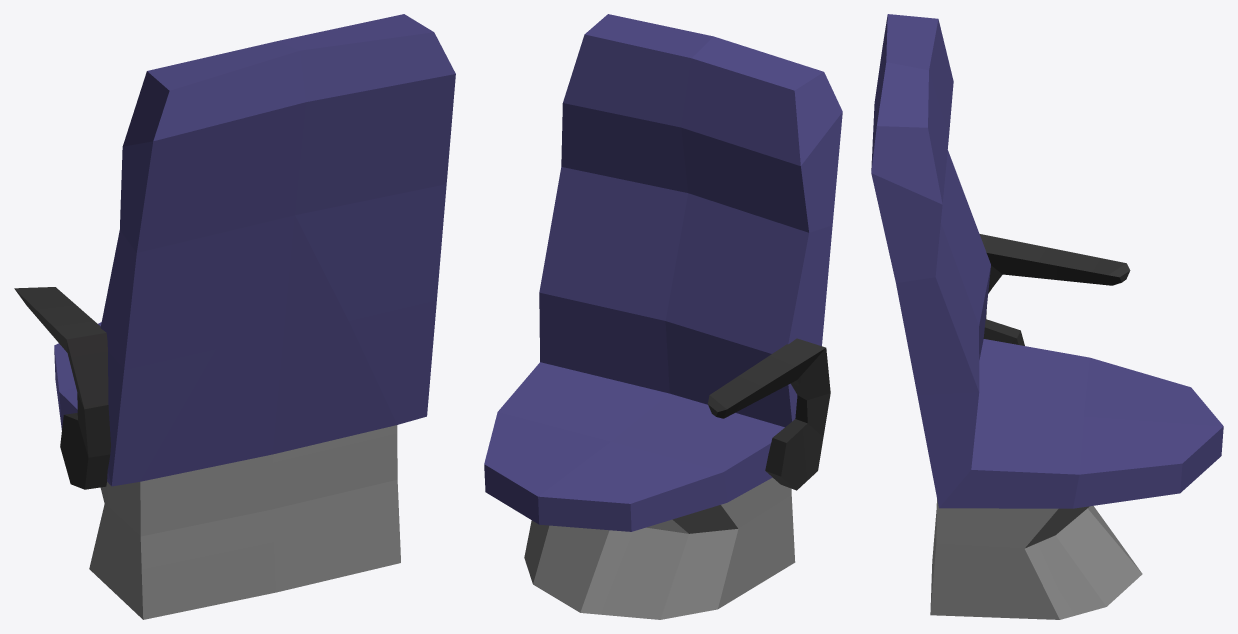
The model's file is Seat.fbx.
The picture shows the model from 3 angles, left to right: view 1: azimuth 30°, elevation 25°; view 2: azimuth 150°, elevation 25°; view 3: azimuth 270°, elevation 25°; orthographic projection. The views are drawn at different scales.
Visible parts, largest first — view 1: Seat; view 2: Seat; view 3: Seat.
Boxes of the visible parts, x1,y1,x2,y2 form: Seat: [14, 14, 455, 619]; Seat: [484, 14, 842, 619]; Seat: [871, 14, 1223, 619].
Bounding box in the file's own units: 39.5 × 63.55 × 40.04.
Materials: 1 (1 with a texture image).
